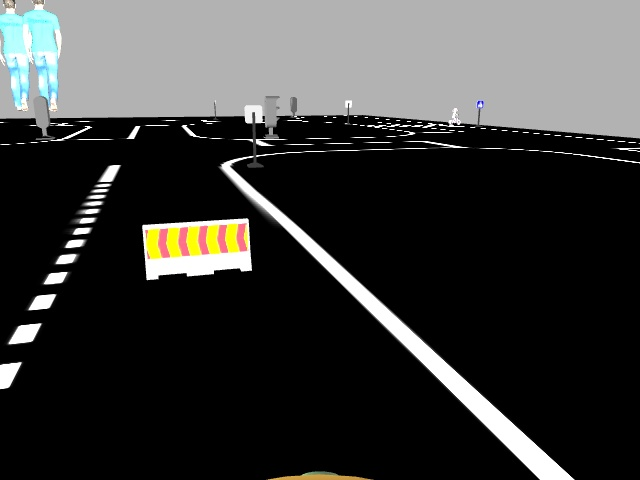ClosedRoadStand: (142, 225, 251, 268)
